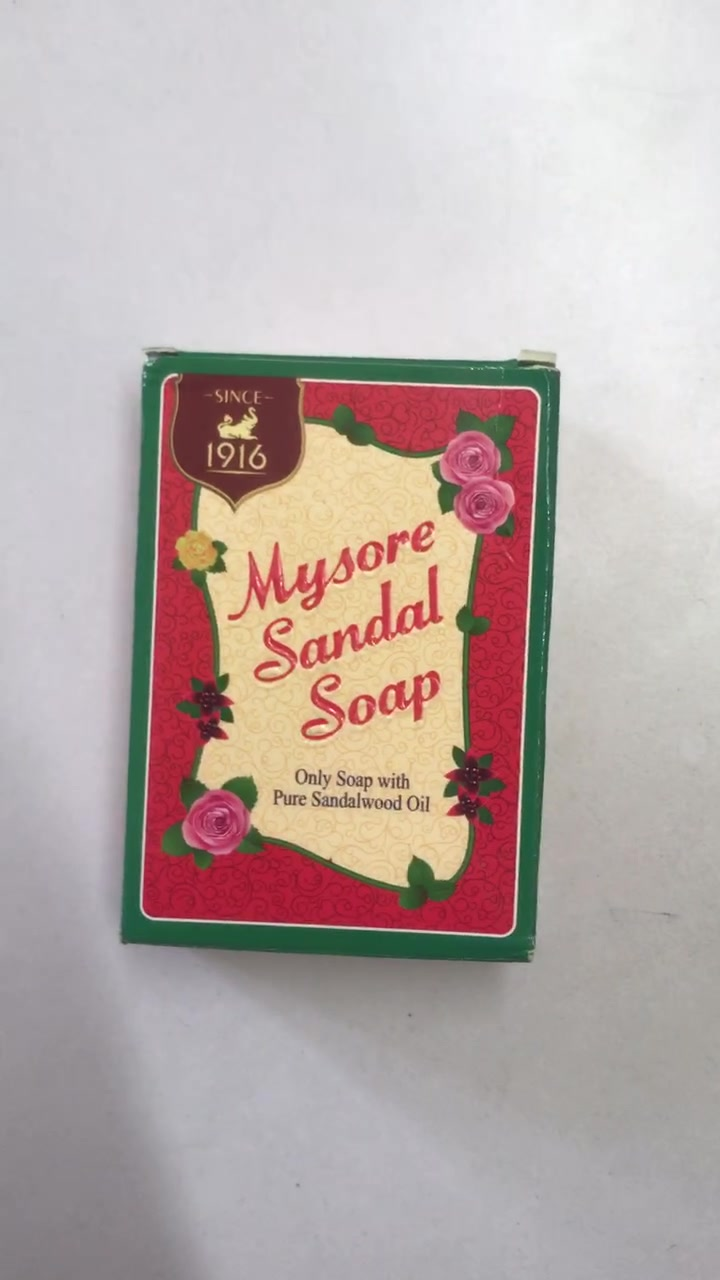mysore sandal soap: (124, 352, 549, 955)
